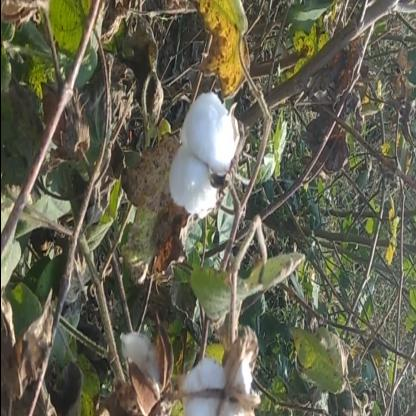cotton_ready: (160, 88, 250, 236)
